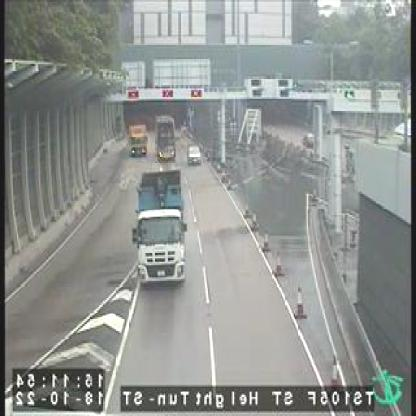Bus: (154, 115, 177, 162)
Car: (186, 144, 203, 166)
Truck: (133, 169, 187, 289), (128, 120, 150, 159)
